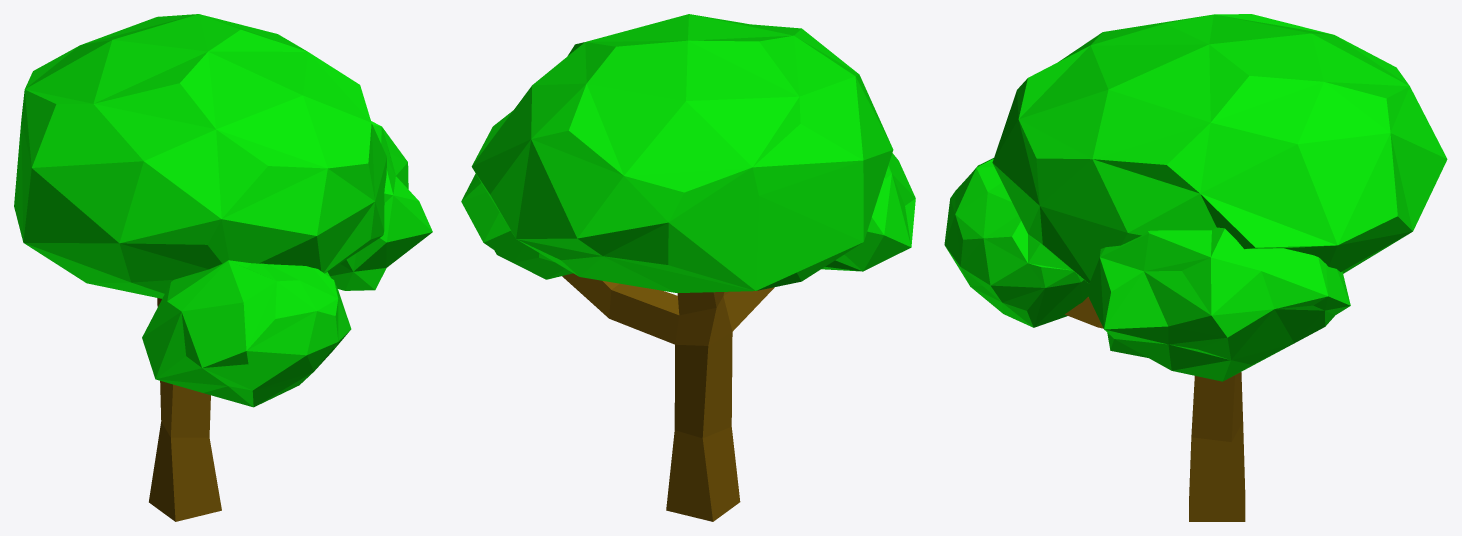
Rendered from p_tree_std_1.fbx.
3 views of the same model, side by side, from view 1: azimuth 30°, elevation 25°; view 2: azimuth 150°, elevation 25°; view 3: azimuth 270°, elevation 25° (orthographic). The views are drawn at different scales.
Parts seen in each view (by area): view 1: p_tree_std_1; view 2: p_tree_std_1; view 3: p_tree_std_1.
Part boxes in pixels (x1,y1,x2,y2): p_tree_std_1: [14, 14, 432, 521]; p_tree_std_1: [461, 14, 915, 521]; p_tree_std_1: [944, 14, 1447, 521].
Size of the model in its own units: 11.01 by 12.52 by 12.01.
